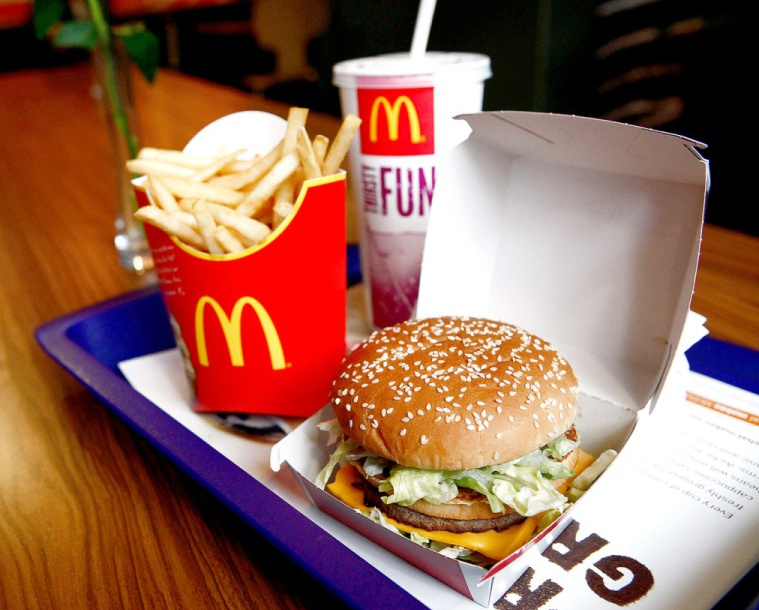mcdonalds: (186, 285, 291, 378), (366, 94, 423, 150)
